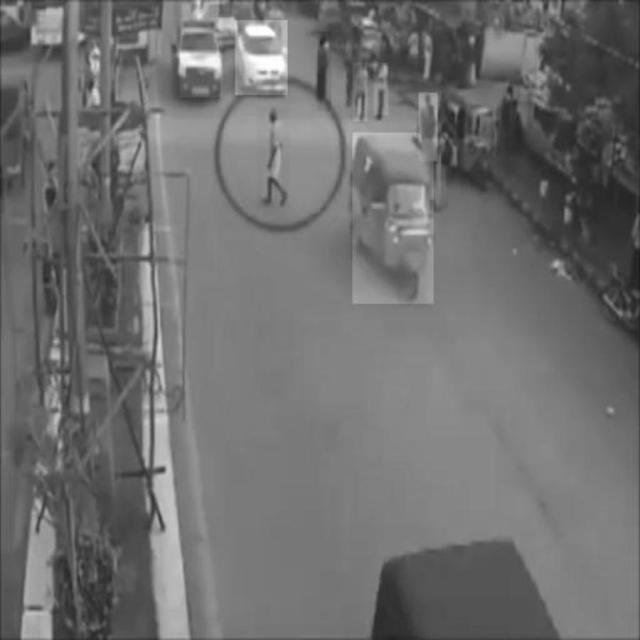person: (258, 107, 290, 207), (419, 92, 437, 160), (318, 32, 332, 112), (353, 62, 368, 120), (374, 62, 389, 116)
vehicle: (353, 133, 434, 303), (443, 93, 500, 187), (235, 20, 287, 94), (179, 19, 223, 99)
